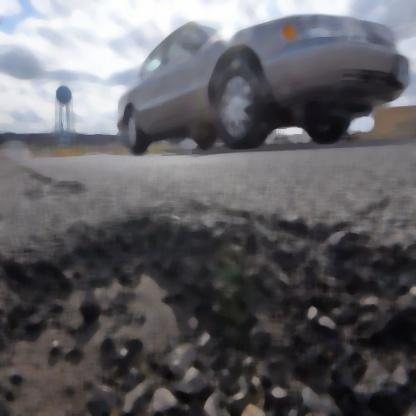Potholes: (14, 243, 175, 410)
